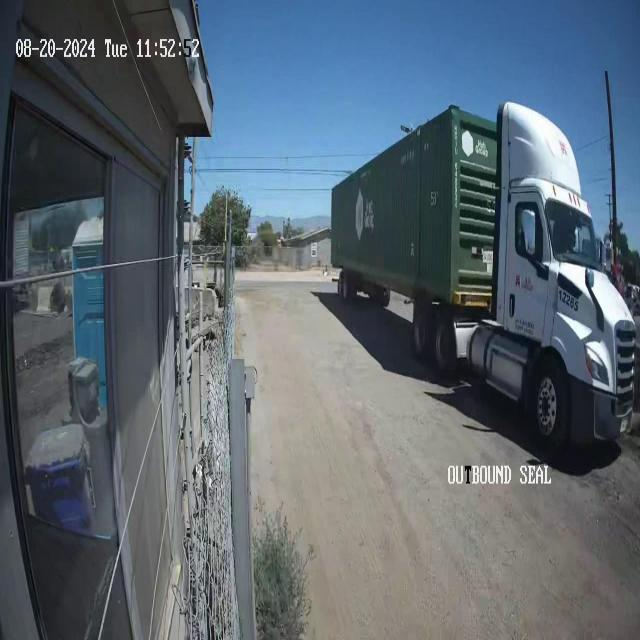TRUCK_IN: (329, 99, 636, 458)
